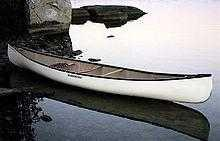kayak: (2, 44, 219, 103)
